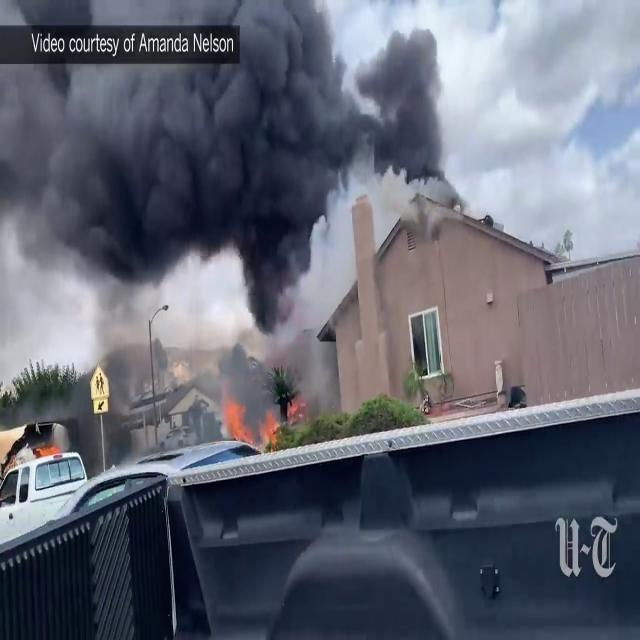Fire: (221, 393, 251, 441)
Smoke: (0, 0, 369, 293)
